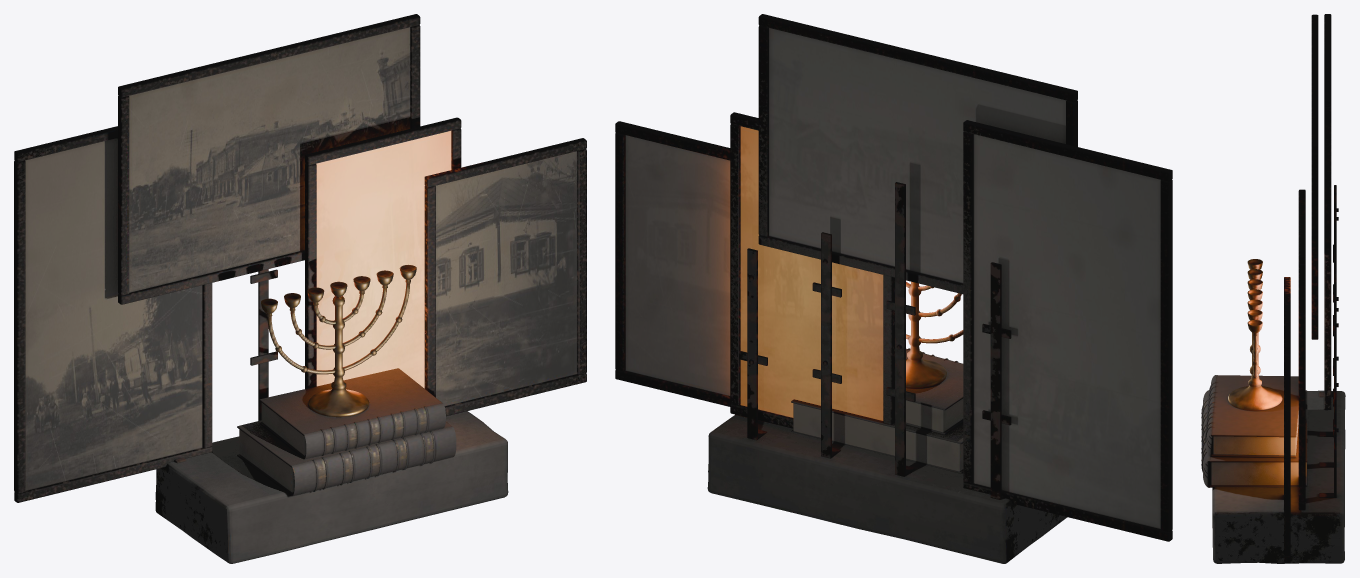
Rendered from vikna_ar.glb.
3 views of the same model, side by side, from view 1: azimuth 30°, elevation 25°; view 2: azimuth 150°, elevation 25°; view 3: azimuth 270°, elevation 25° (orthographic). The views are drawn at different scales.
Parts seen in each view (by area): view 1: vikna; view 2: vikna; view 3: vikna.
Part boxes in pixels (left/top/right/bottom): vikna: left=14, top=14, right=586, bottom=563; vikna: left=615, top=14, right=1172, bottom=563; vikna: left=1201, top=14, right=1345, bottom=563.
Bounding box in the file's own units: 1.9 × 1.49 × 0.482.
Materials: 2 (2 with a texture image).
